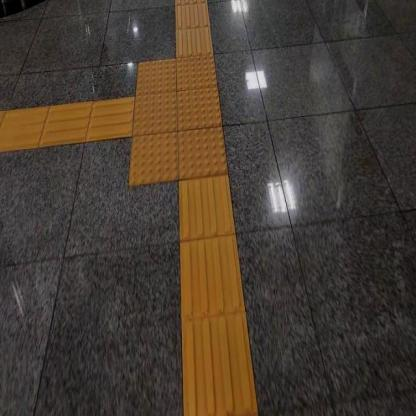podotacti: (105, 35, 241, 204), (174, 178, 262, 415), (0, 96, 131, 155), (174, 0, 215, 55)
